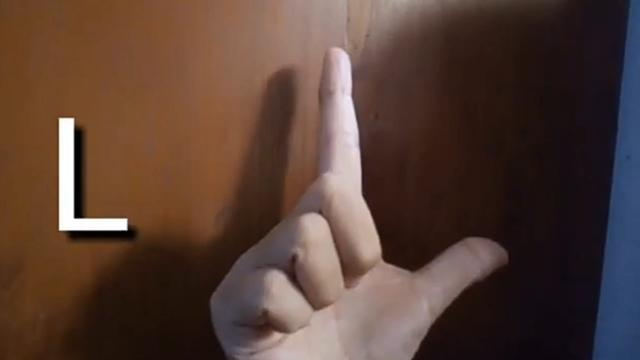L: (205, 44, 515, 360)
